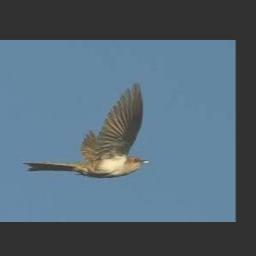Cuckoo: (22, 82, 150, 177)
